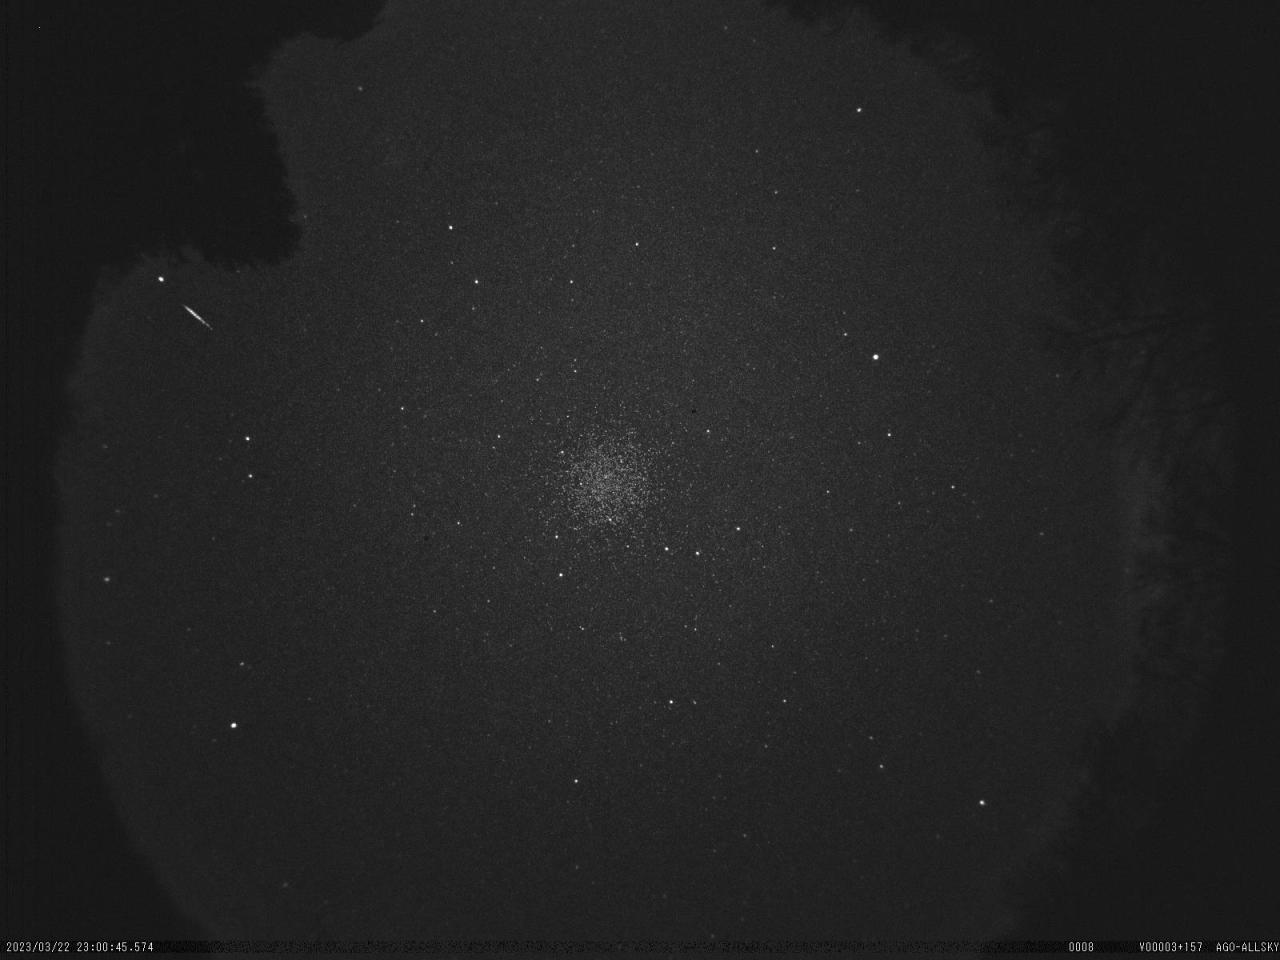Meteor: (180, 302, 214, 333)
